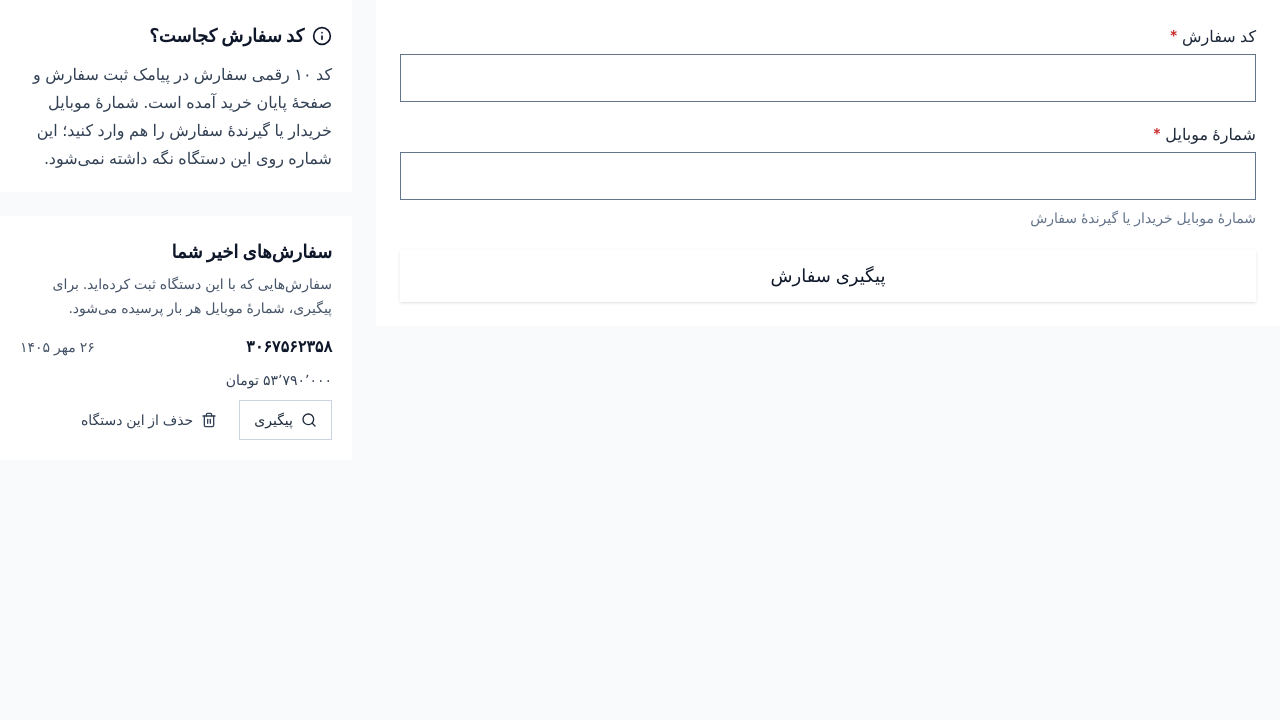
Scenario: the recent guest orders of this device › «پیگیری» after a lookup: the order found before goes (not shown under another code)
Type "2583973877" into the field labelled "کد سفارش *" at (828, 78), box [401,55,1255,101]
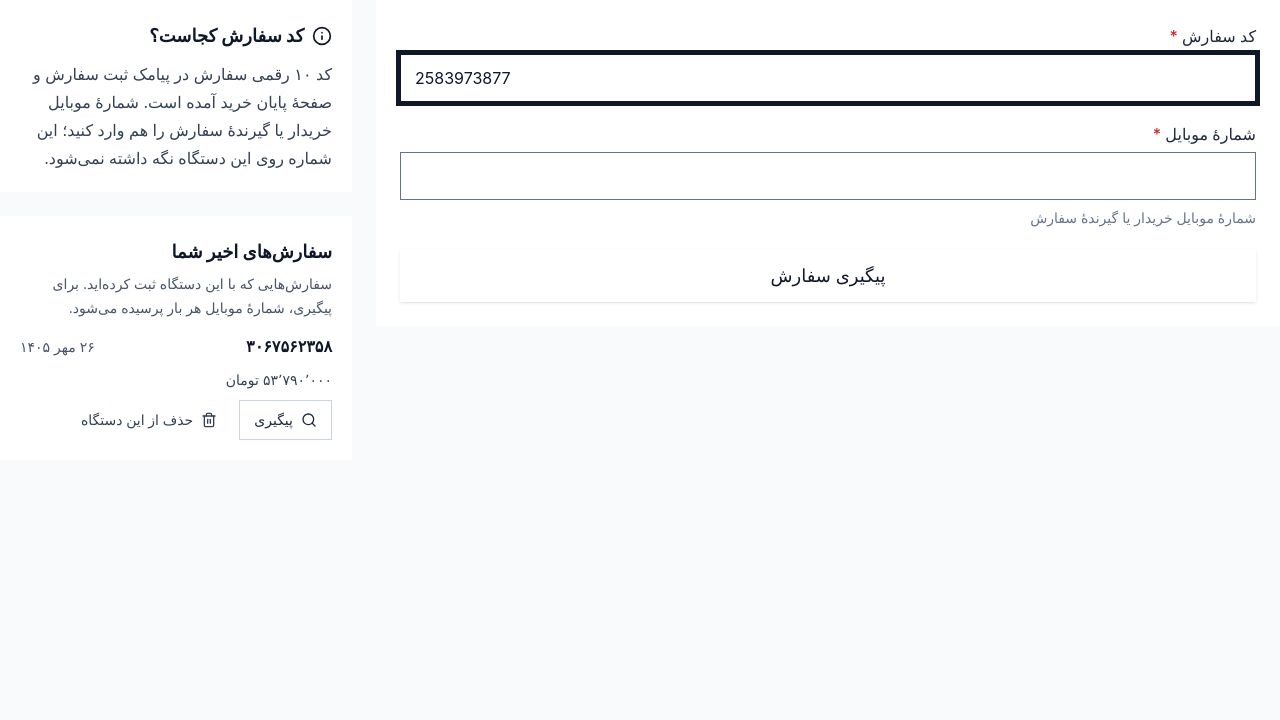
Type "09011234513" into the field labelled "شمارهٔ موبایل *" at (828, 176), box [401,153,1255,199]
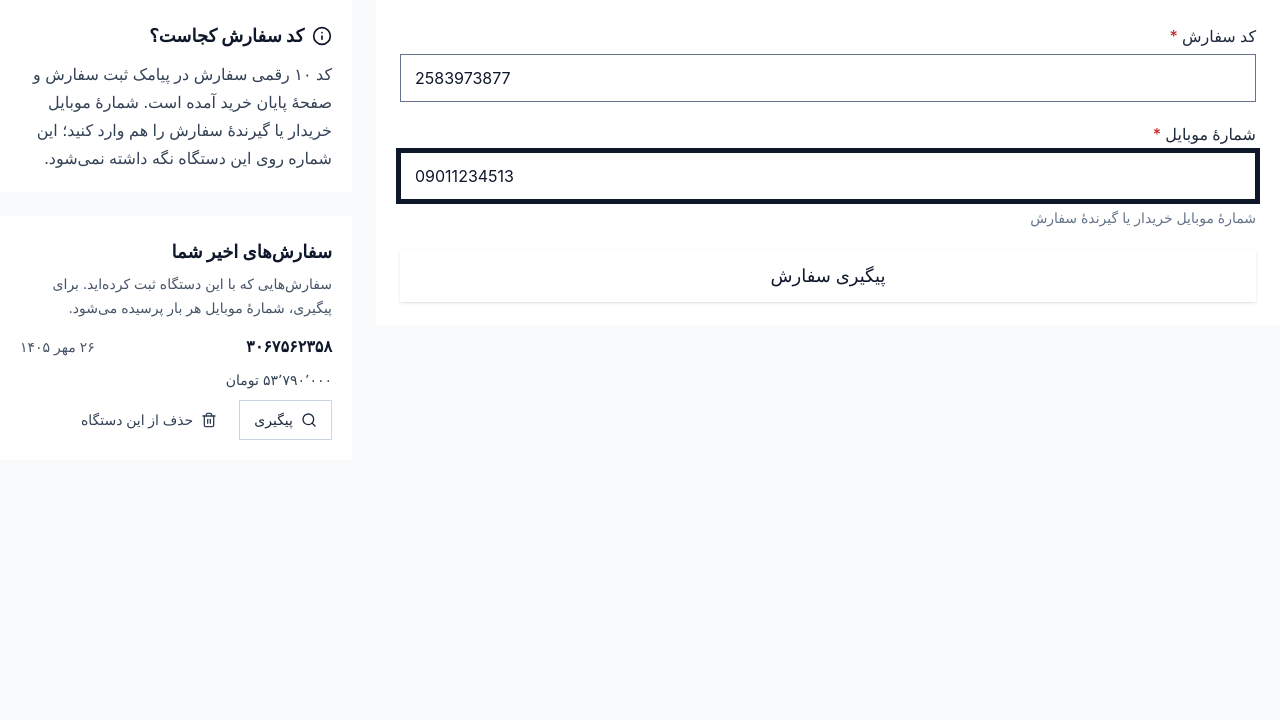
Click the button "پیگیری سفارش" at (828, 276), box [400,250,1256,302]
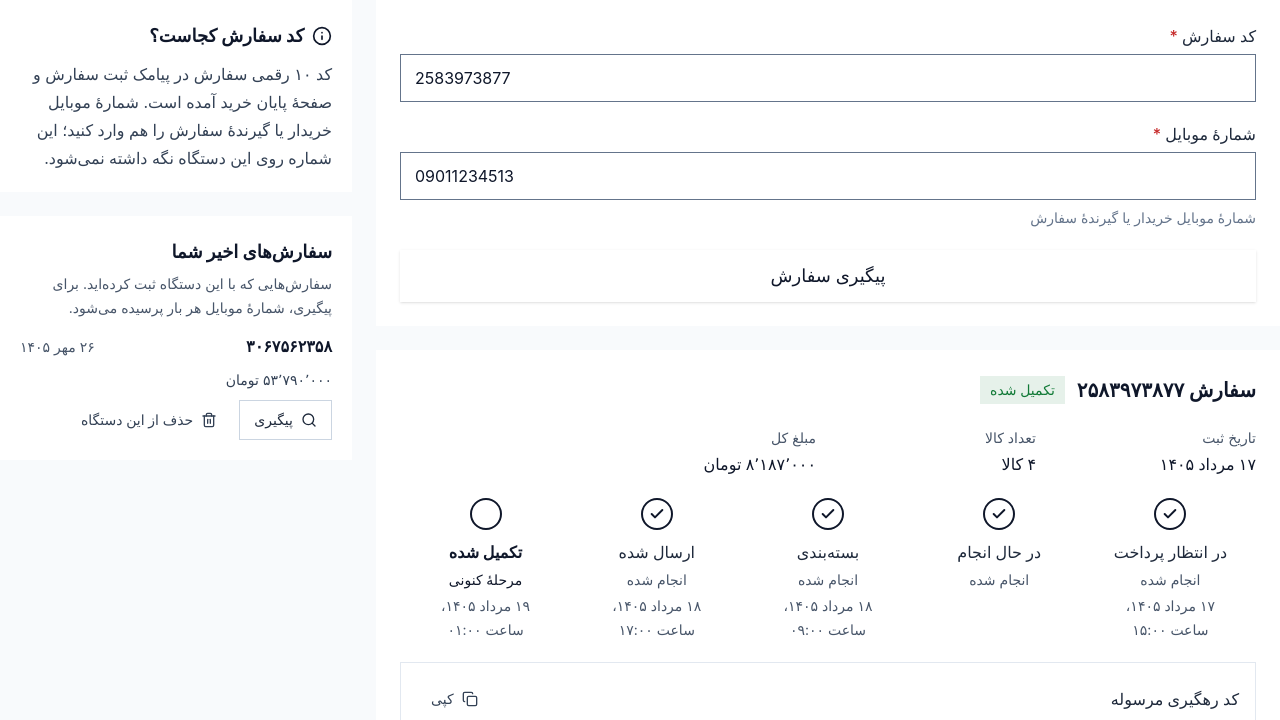
Expected: the heading "سفارش ۲۵۸۳۹۷۳۸۷۷ تکمیل شده" is shown, [980,376,1256,404]
Click the button named "پیگیری سفارش ۳۰۶۷۵۶۲۳۵۸" at (286, 420), box [239,400,332,440]
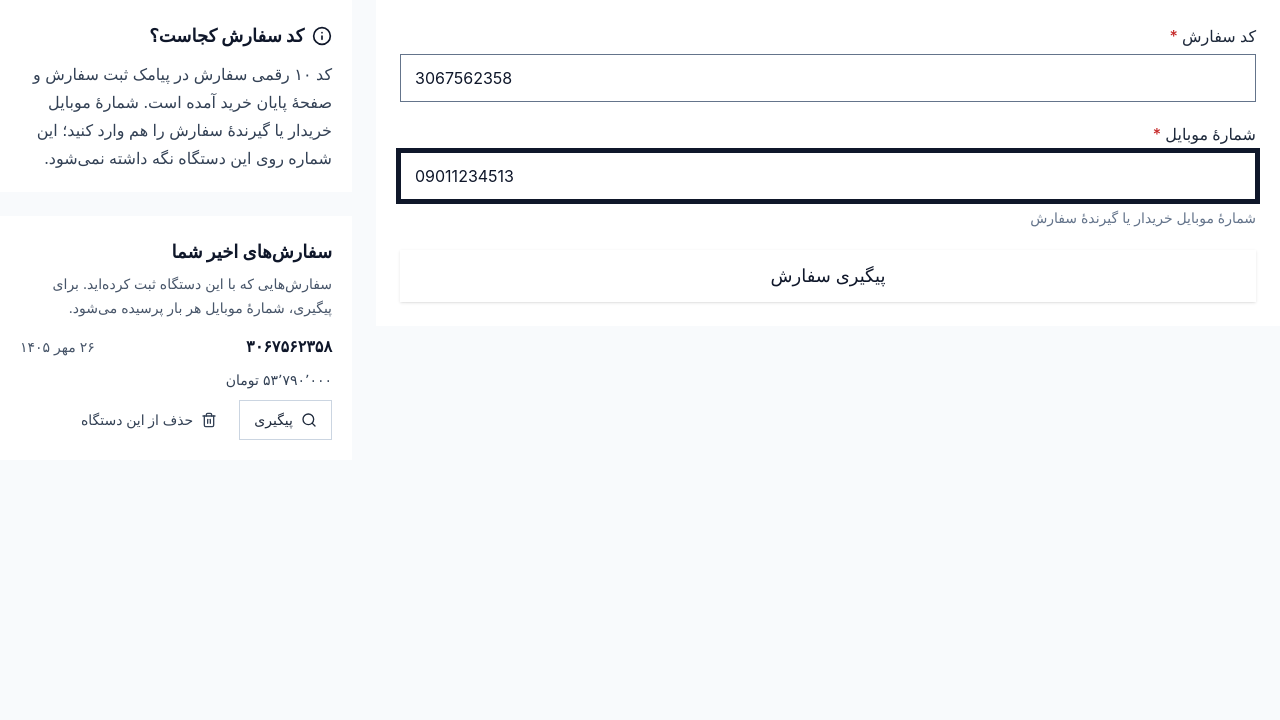
Expected: the field labelled "کد سفارش *" holds "3067562358", [401,55,1255,101]
Expected: the heading "سفارش ۲۵۸۳۹۷۳۸۷۷" is gone
